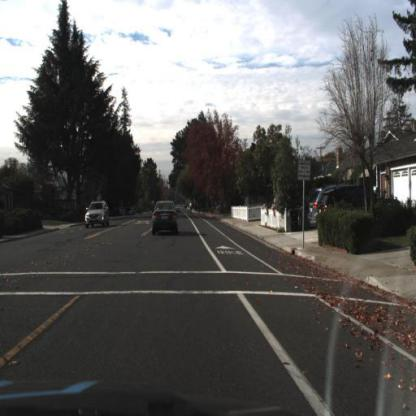biker: (197, 203, 201, 217), (190, 203, 193, 215)
car: (308, 181, 380, 232), (316, 184, 379, 231), (151, 200, 180, 235), (83, 200, 112, 234)
